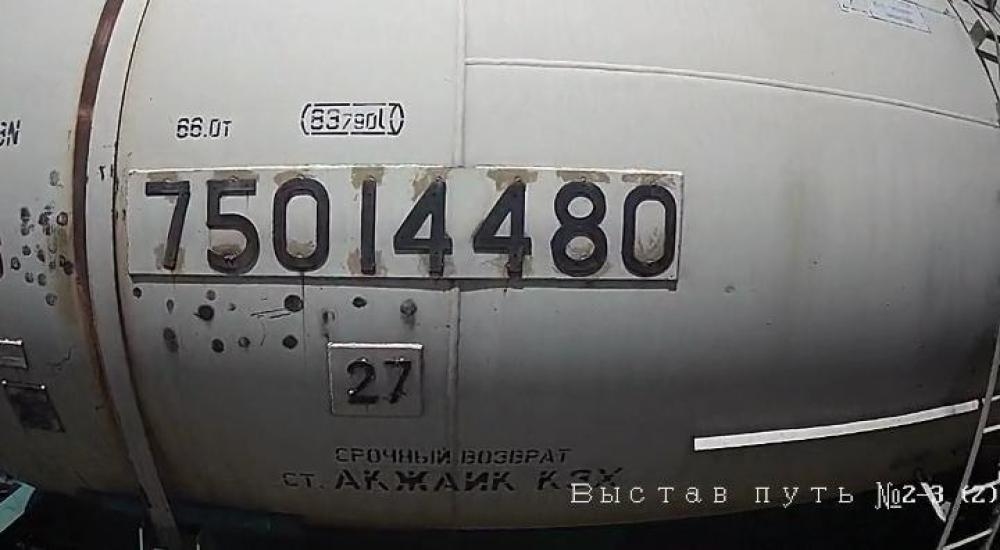Wagon-number: (146, 167, 680, 279)
